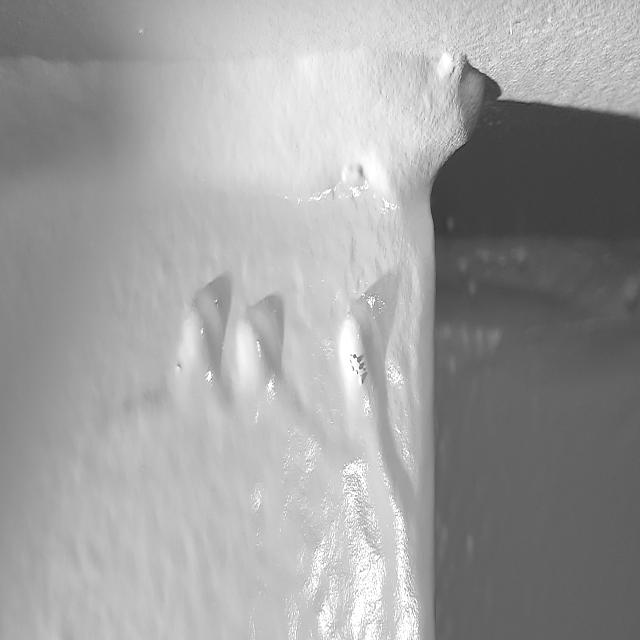paint drips: (165, 256, 417, 580)
